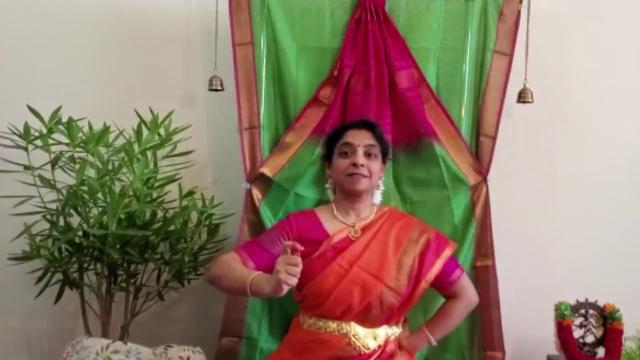kapitth: (268, 237, 322, 307)
